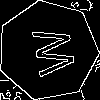W: (23, 25, 76, 79)
